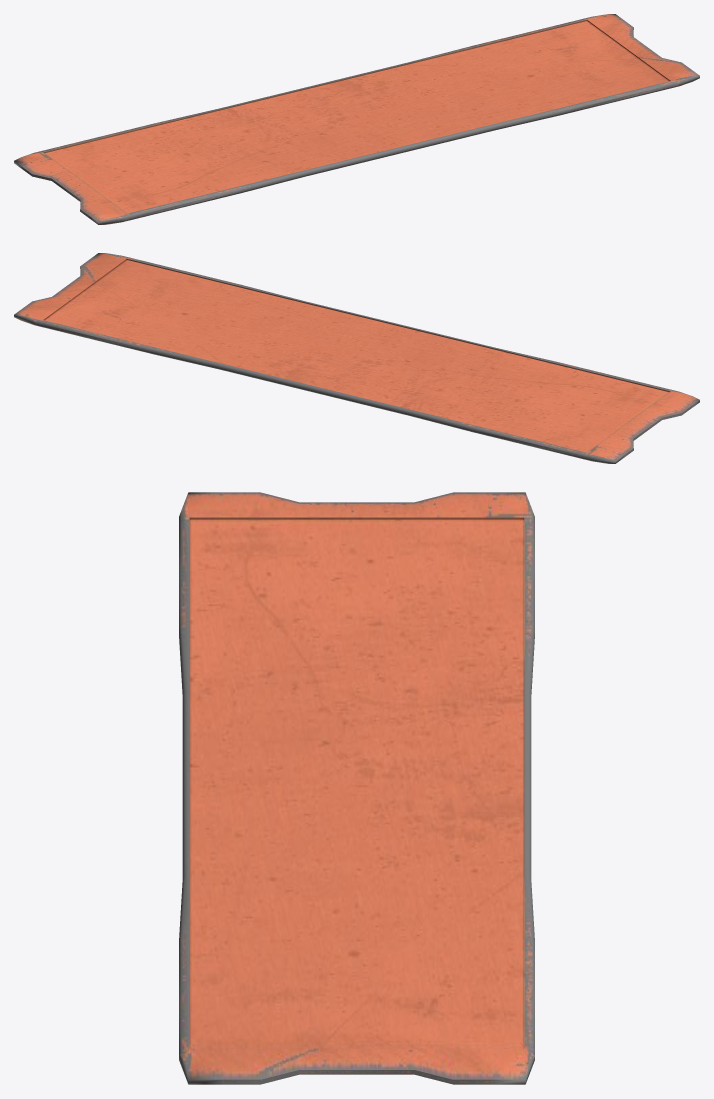
Rendered from Lamp.fbx.
3 renders of one model, top to bottom at view 1: azimuth 30°, elevation 25°; view 2: azimuth 150°, elevation 25°; view 3: azimuth 270°, elevation 25°, orthographic. The views are drawn at different scales.
Visible parts, largest first — view 1: palm.000; view 2: palm.000; view 3: palm.000.
Part boxes in pixels (bbox=[...]): palm.000: bbox=[14, 14, 699, 224]; palm.000: bbox=[14, 253, 699, 463]; palm.000: bbox=[179, 492, 534, 1084].
Size of the model in its own units: 1.52 by 0.0132 by 0.3904.
